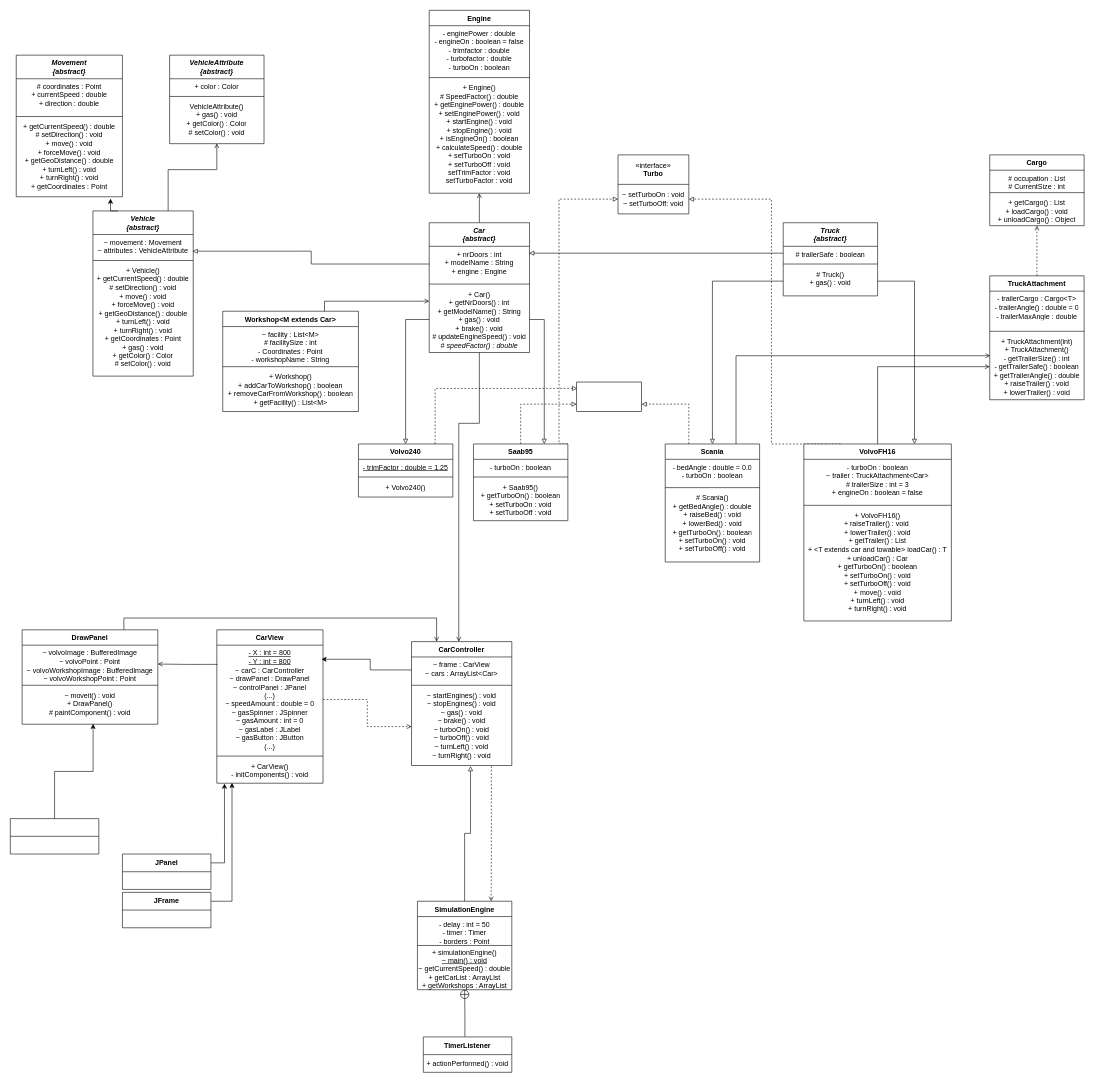
Image size: 1094x1083. Some labels were removed from this diagram. The centre of each missing label's shape, as x and y in pixels:
"Graphics" belongs at (x=54, y=836).
"«interface» Towable" belongs at (x=609, y=396).
